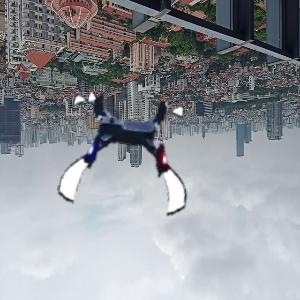drone: (63, 89, 197, 223)
